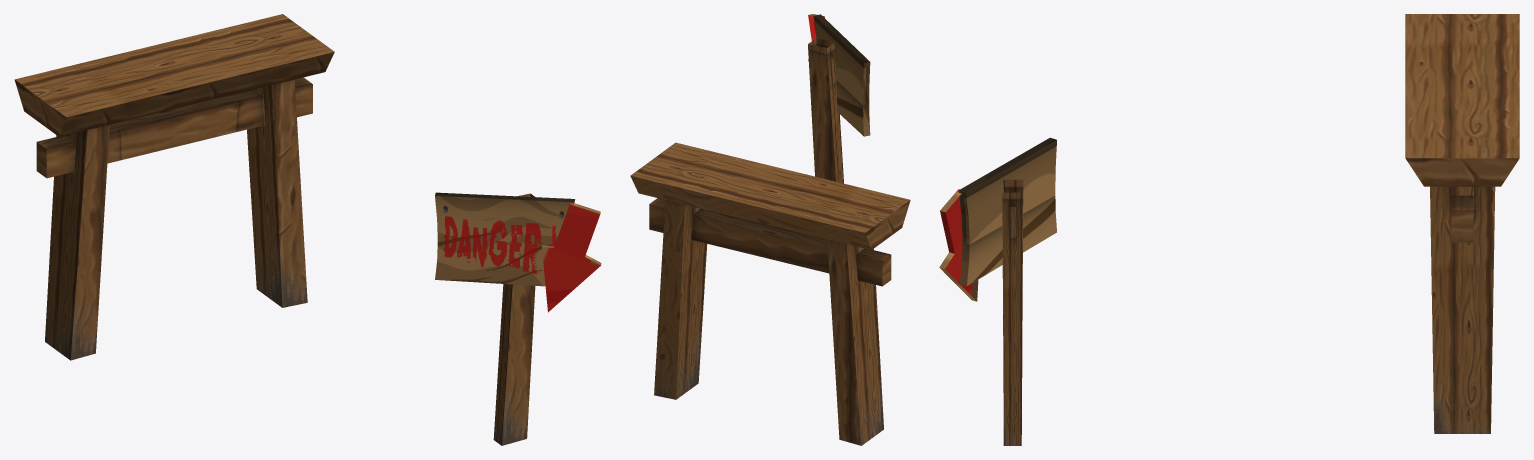
The model's file is Wood_Support.FBX.
The picture shows the model from 3 angles, left to right: view 1: azimuth 30°, elevation 25°; view 2: azimuth 150°, elevation 25°; view 3: azimuth 270°, elevation 25°; orthographic projection. The views are drawn at different scales.
Visible parts, largest first — view 1: Box001, Object001; view 2: Box001, Object001; view 3: Box001, Object001.
Boxes of the visible parts, left/top/right/bottom form: Box001: left=14, top=14, right=334, bottom=360; Object001: left=435, top=192, right=601, bottom=445; Box001: left=630, top=142, right=910, bottom=445; Object001: left=808, top=14, right=870, bottom=183; Box001: left=1405, top=14, right=1519, bottom=433; Object001: left=939, top=137, right=1056, bottom=445.
Bounding box in the file's own units: 2.79 × 2.1 × 3.9.
1 material, 1 textured.
